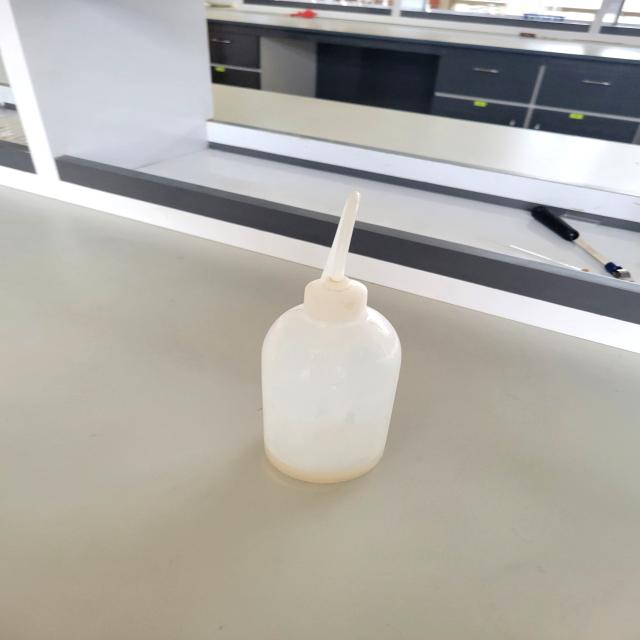Wash_Bottle: (246, 183, 427, 502)
